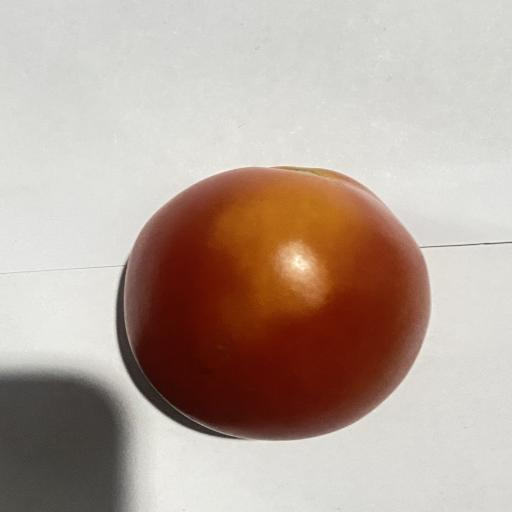ripe: (124, 167, 430, 440)
